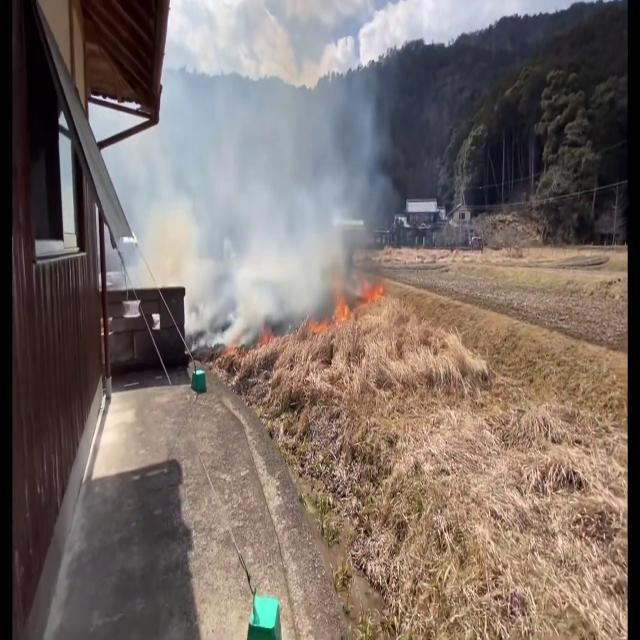Fire: (310, 280, 354, 340)
Smoke: (154, 28, 398, 358)
